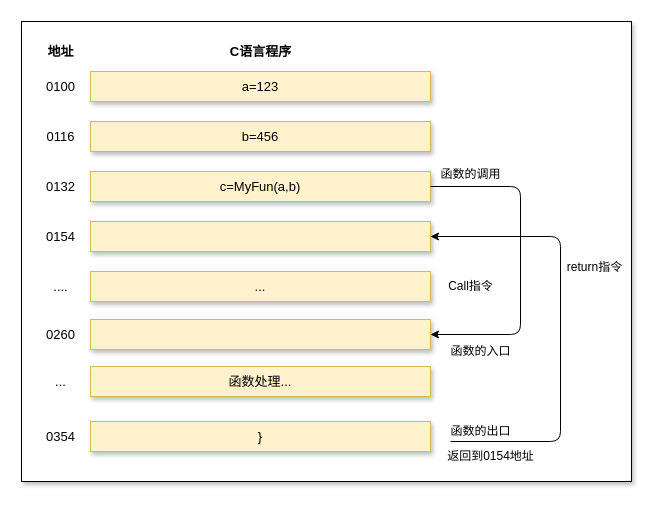
This 655x506 diagram has some shape labels left out. Each missing label, with the centre of its shape:
int MyFun(a,b){: the point at 261,335
下一个指令: the point at 261,237
